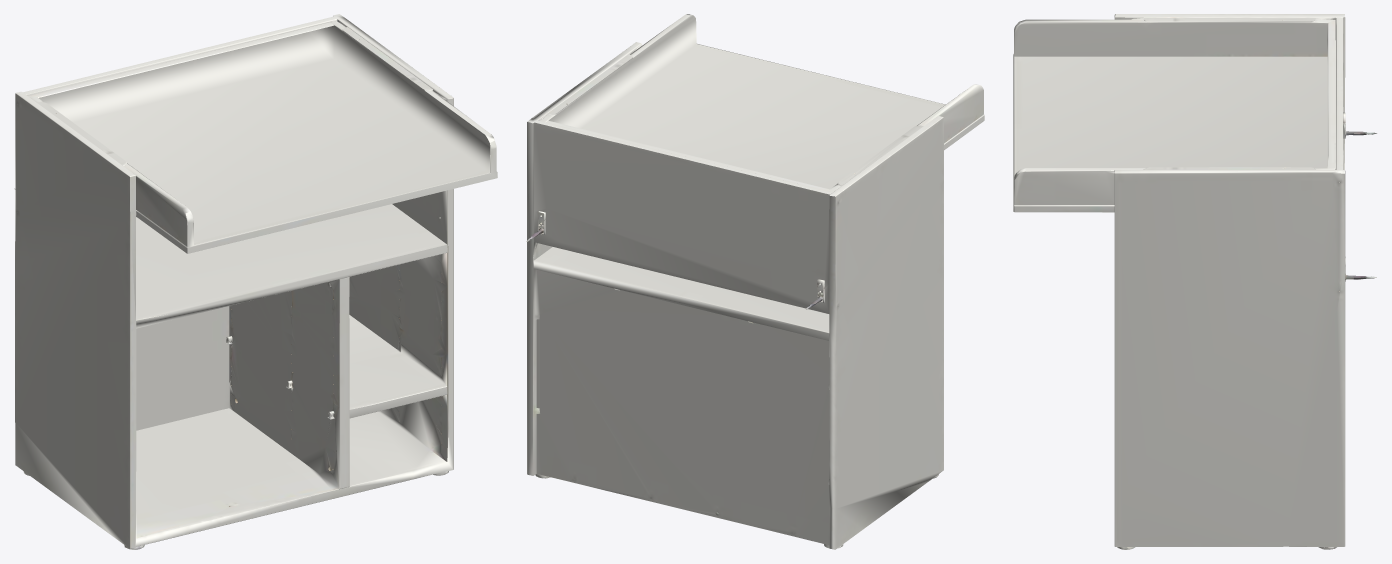
3 views of the same model, side by side, from view 1: azimuth 30°, elevation 25°; view 2: azimuth 150°, elevation 25°; view 3: azimuth 270°, elevation 25° (orthographic). The views are drawn at different scales.
Visible parts, largest first — view 1: ProcessedMeshNode; view 2: ProcessedMeshNode; view 3: ProcessedMeshNode.
Boxes of the visible parts, bbox=[...] form: ProcessedMeshNode: bbox=[14, 14, 497, 549]; ProcessedMeshNode: bbox=[526, 14, 984, 549]; ProcessedMeshNode: bbox=[1013, 14, 1376, 549].
Size of the model in its own units: 0.9006 by 0.9953 by 0.869.
1 material, 1 textured.
